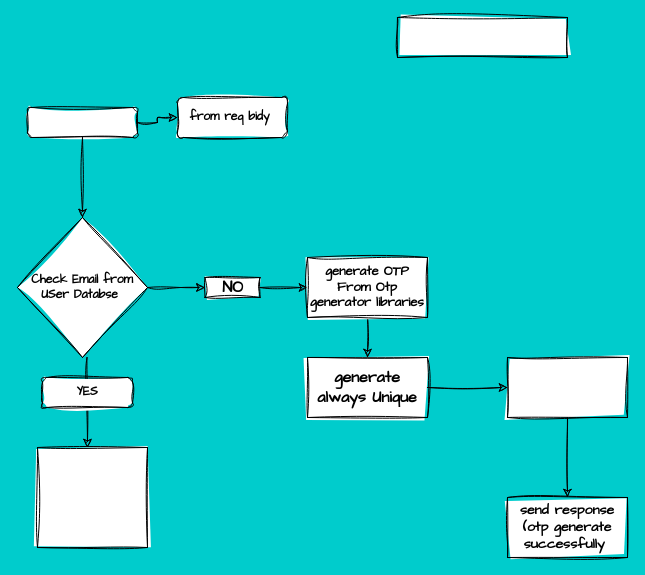
Image size: 645x575. Some labels were removed from this diagram. The centre of each missing label's shape, as x and y in pixels:
"Email" goes at [82,122].
"OTP GENERATOR" goes at [482,37].
"save otp in OTP database" goes at [567,387].
"send Response (email already registered)" goes at [92,497].
